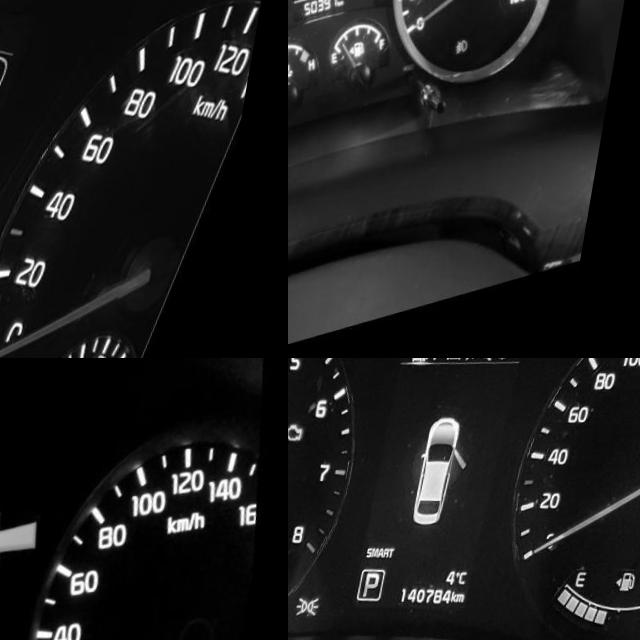FrontFogLight: (464, 44, 482, 61)
SideLamp: (308, 597, 334, 621)
